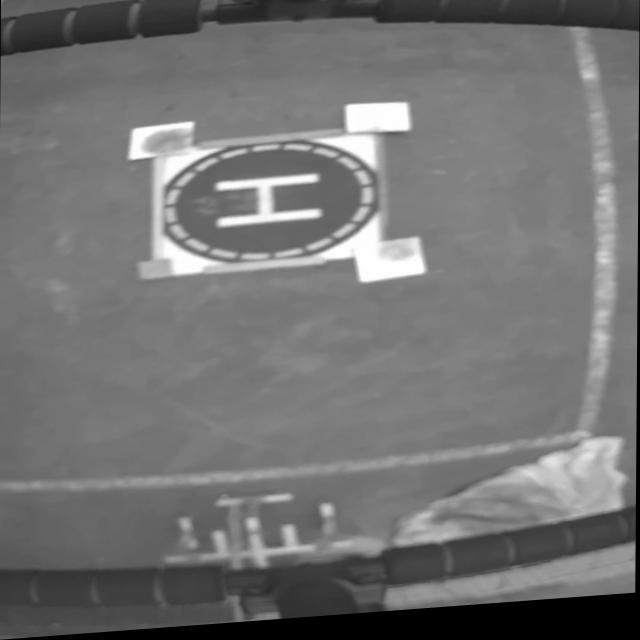Helipad: (212, 179, 321, 231)
